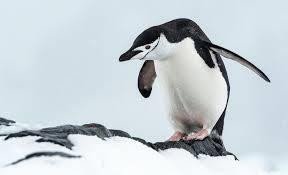chinstrap: (114, 11, 273, 153)
